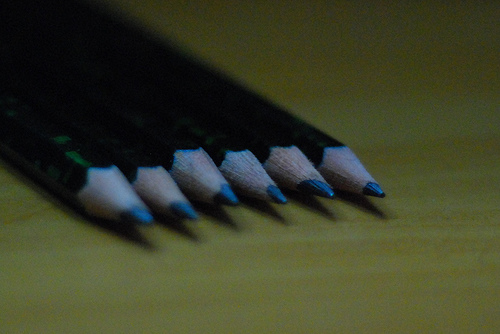pen_tip: (66, 162, 157, 231), (315, 139, 397, 202)
